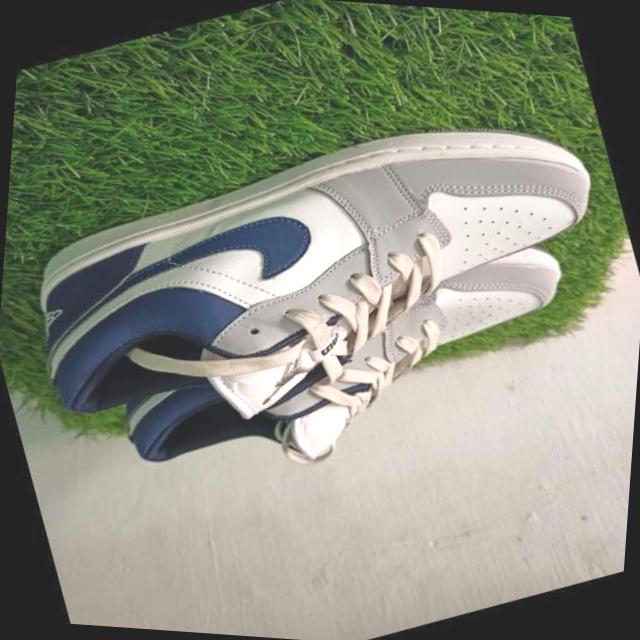nike_fake_jordan: (0, 43, 640, 506), (94, 207, 606, 540)
